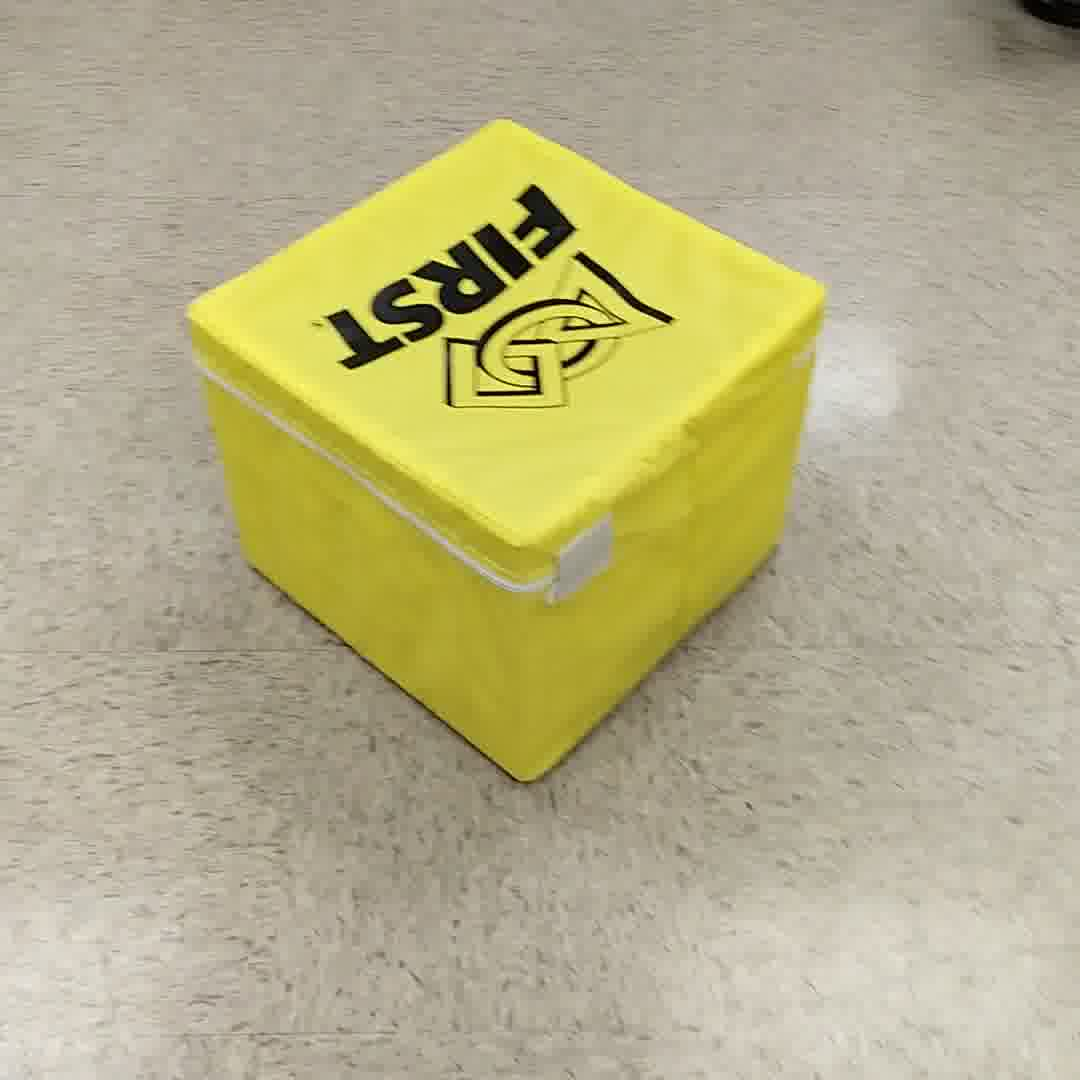box: (159, 116, 829, 771)
